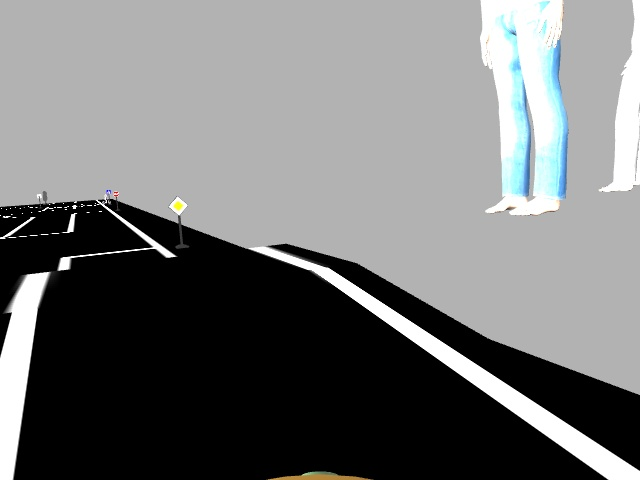Priority: (164, 192, 189, 218)
